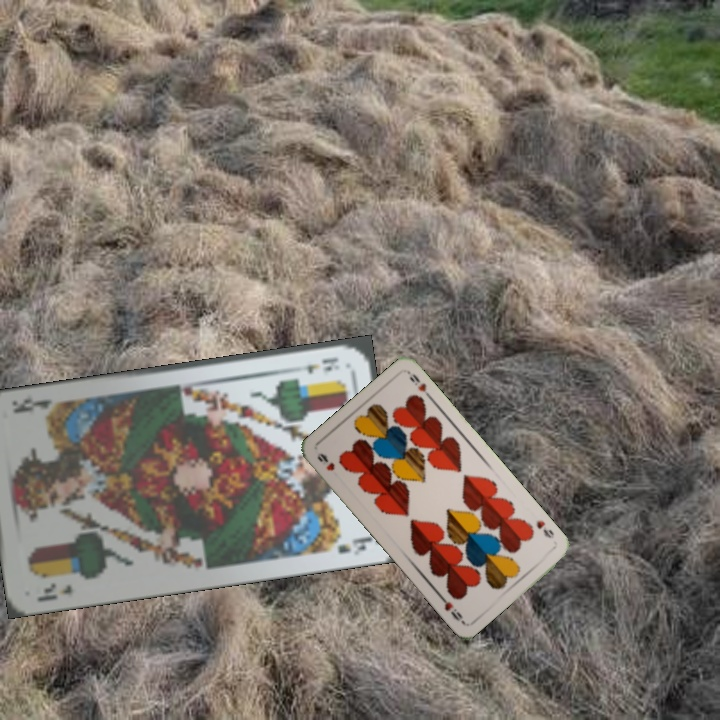EK: (290, 354, 341, 377), (32, 579, 75, 604)
H9: (532, 516, 557, 541), (313, 449, 337, 473)
